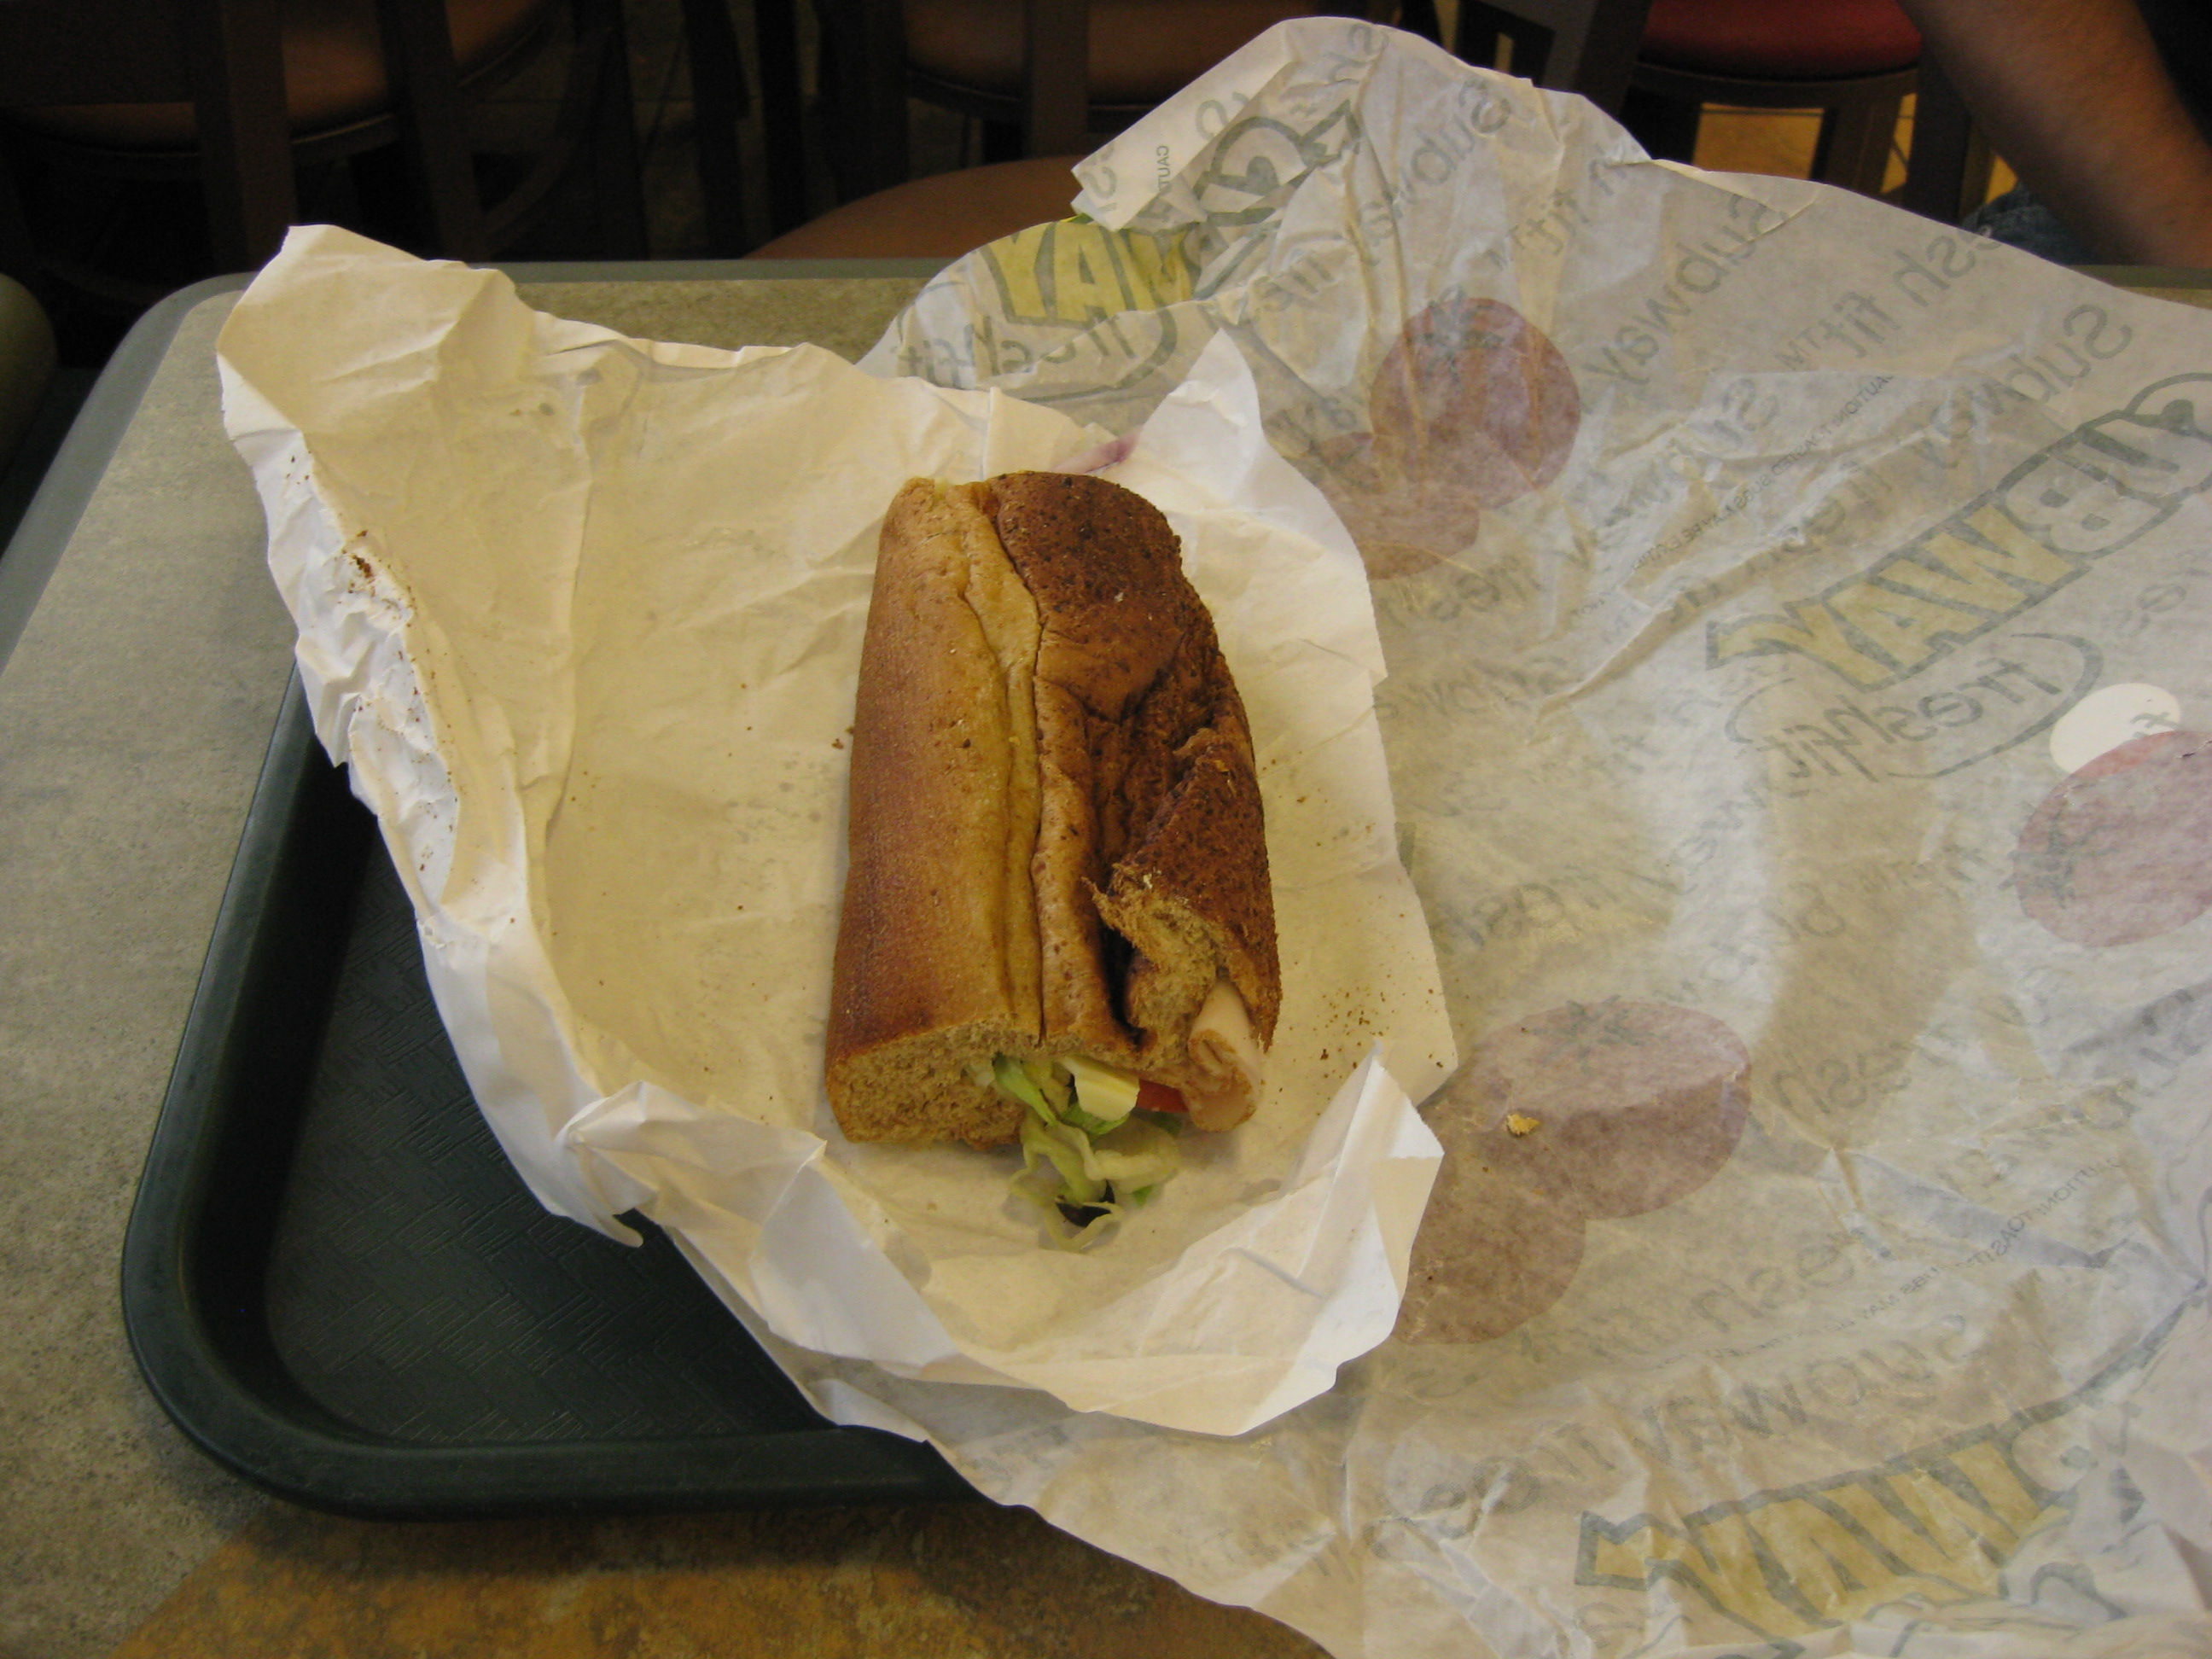sub: (826, 461, 1280, 1202)
